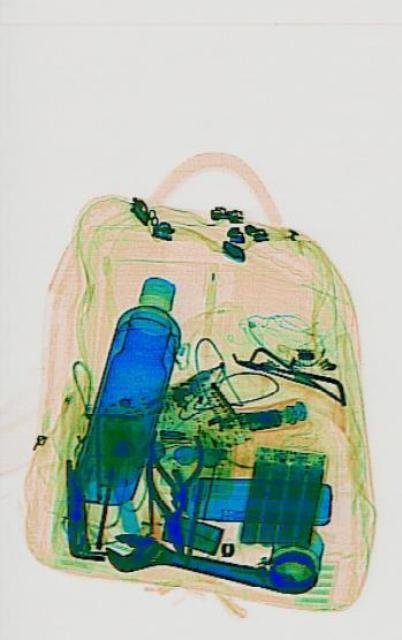Pliers: (145, 421, 205, 517), (142, 452, 190, 558)
Wrench: (102, 525, 294, 599)
